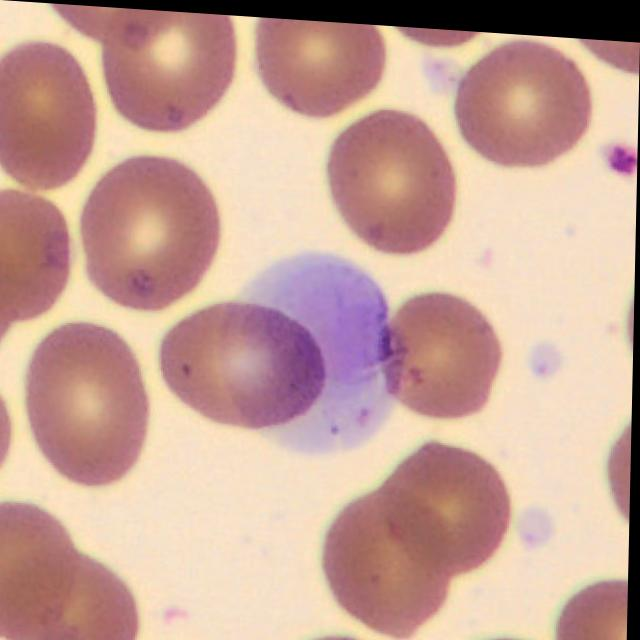Artefato: (225, 248, 405, 453)
